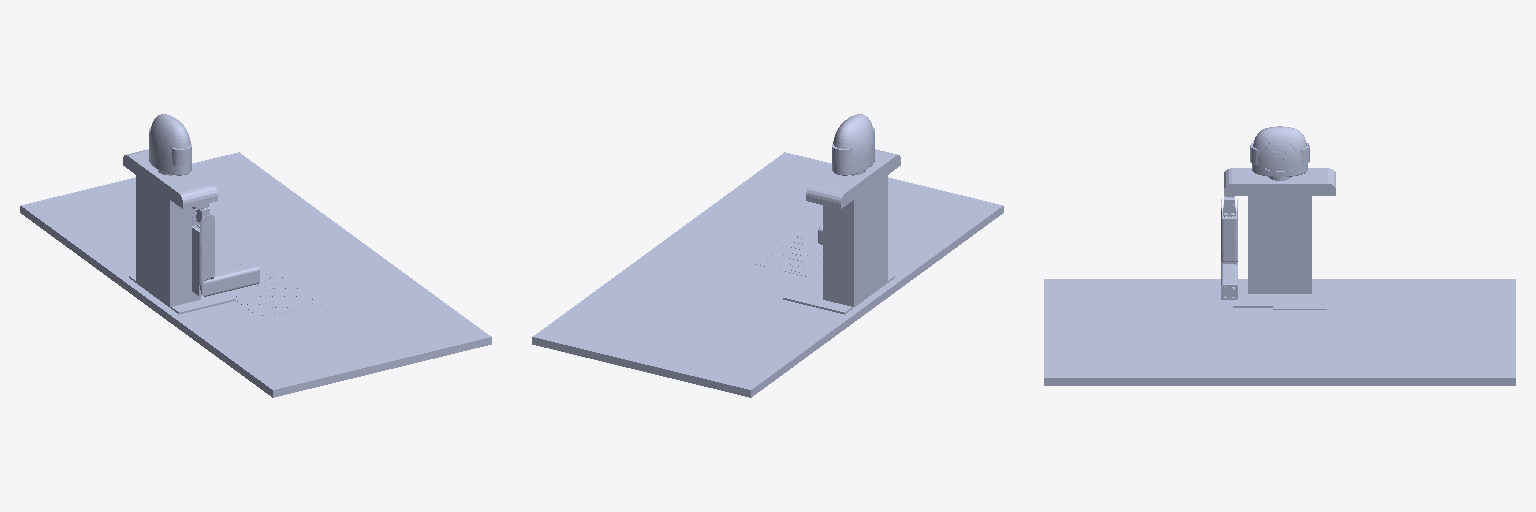
The robot description file, URDF, robot "bexter_urdf_final_combined":
<?xml version="1.0" encoding="utf-8"?>
<!-- This URDF was automatically created by SolidWorks to URDF Exporter! Originally created by [author] ([email redacted]) 
     Commit Version: 1.6.0-4-g7f85cfe  Build Version: 1.6.7995.38578
     For more information, please see http://wiki.ros.org/sw_urdf_exporter -->
<robot
  name="bexter_urdf_final_combined">
  <link
    name="base_link">
    <inertial>
      <origin
        xyz="0.2616 -0.00030313 0.036246"
        rpy="0 0 0" />
      <mass
        value="34.554" />
      <inertia
        ixx="5.7729"
        ixy="-0.00016645"
        ixz="-0.00062495"
        iyy="1.467"
        iyz="-0.00017016"
        izz="7.1736" />
    </inertial>
    <visual>
      <origin
        xyz="0 0 0"
        rpy="0 0 0" />
      <geometry>
        <mesh
          filename="package://bexter_urdf_final_combined/meshes/base_link.STL" />
      </geometry>
      <material
        name="">
        <color
          rgba="0.79216 0.81961 0.93333 1" />
      </material>
    </visual>
    <collision>
      <origin
        xyz="0 0 0"
        rpy="0 0 0" />
      <geometry>
        <mesh
          filename="package://bexter_urdf_final_combined/meshes/base_link.STL" />
      </geometry>
    </collision>
  </link>
  <link
    name="link_0">
    <inertial>
      <origin
        xyz="-1.0459E-05 -0.00048941 -0.02575"
        rpy="0 0 0" />
      <mass
        value="0.045956" />
      <inertia
        ixx="1.1423E-05"
        ixy="5.2331E-09"
        ixz="4.4082E-09"
        iyy="1.0126E-05"
        iyz="-2.555E-07"
        izz="6.9187E-06" />
    </inertial>
    <visual>
      <origin
        xyz="0 0 0"
        rpy="0 0 0" />
      <geometry>
        <mesh
          filename="package://bexter_urdf_final_combined/meshes/link_0.STL" />
      </geometry>
      <material
        name="">
        <color
          rgba="0.79216 0.81961 0.93333 1" />
      </material>
    </visual>
    <collision>
      <origin
        xyz="0 0 0"
        rpy="0 0 0" />
      <geometry>
        <mesh
          filename="package://bexter_urdf_final_combined/meshes/link_0.STL" />
      </geometry>
    </collision>
  </link>
  <joint
    name="joint_1"
    type="continuous">
    <origin
      xyz="0.026793 -0.1635 0.33675"
      rpy="0 0 0" />
    <parent
      link="base_link" />
    <child
      link="link_0" />
    <axis
      xyz="0 0 1" />
    <limit
      lower="-1.57"
      upper="1.57"
      effort="1.4"
      velocity="3.14" />
  </joint>
  <link
    name="link_1">
    <inertial>
      <origin
        xyz="-0.00089873 1.0165E-05 -0.12022"
        rpy="0 0 0" />
      <mass
        value="0.27455" />
      <inertia
        ixx="0.00062259"
        ixy="4.4646E-09"
        ixz="-2.7251E-05"
        iyy="0.00066973"
        iyz="2.5518E-07"
        izz="9.9719E-05" />
    </inertial>
    <visual>
      <origin
        xyz="0 0 0"
        rpy="0 0 0" />
      <geometry>
        <mesh
          filename="package://bexter_urdf_final_combined/meshes/link_1.STL" />
      </geometry>
      <material
        name="">
        <color
          rgba="0.79216 0.81961 0.93333 1" />
      </material>
    </visual>
    <collision>
      <origin
        xyz="0 0 0"
        rpy="0 0 0" />
      <geometry>
        <mesh
          filename="package://bexter_urdf_final_combined/meshes/link_1.STL" />
      </geometry>
    </collision>
  </link>
  <joint
    name="joint_2"
    type="revolute">
    <origin
      xyz="0 0 -0.0386"
      rpy="0 0 0" />
    <parent
      link="link_0" />
    <child
      link="link_1" />
    <axis
      xyz="0 1 0" />
    <limit
      lower="0"
      upper="0"
      effort="1.4"
      velocity="3.14" />
  </joint>
  <link
    name="link_2">
    <inertial>
      <origin
        xyz="0.096414 -8.3957E-07 -3.058E-05"
        rpy="0 0 0" />
      <mass
        value="0.2174" />
      <inertia
        ixx="8.5594E-05"
        ixy="1.3129E-14"
        ixz="5.2867E-14"
        iyy="0.00051595"
        iyz="-6.2811E-10"
        izz="0.00047252" />
    </inertial>
    <visual>
      <origin
        xyz="0 0 0"
        rpy="0 0 0" />
      <geometry>
        <mesh
          filename="package://bexter_urdf_final_combined/meshes/link_2.STL" />
      </geometry>
      <material
        name="">
        <color
          rgba="0.79216 0.81961 0.93333 1" />
      </material>
    </visual>
    <collision>
      <origin
        xyz="0 0 0"
        rpy="0 0 0" />
      <geometry>
        <mesh
          filename="package://bexter_urdf_final_combined/meshes/link_2.STL" />
      </geometry>
    </collision>
  </link>
  <joint
    name="joint_3"
    type="revolute">
    <origin
      xyz="0 -6.2E-05 -0.2209"
      rpy="0 0 0" />
    <parent
      link="link_1" />
    <child
      link="link_2" />
    <axis
      xyz="0 -1 0" />
    <limit
      lower="-3.14"
      upper="1.57"
      effort="1.4"
      velocity="3.14" />
  </joint>
  <link
    name="end_effector">
    <inertial>
      <origin
        xyz="-0.02175 0.13529 0.035046"
        rpy="0 0 0" />
      <mass
        value="0.2174" />
      <inertia
        ixx="3.4269"
        ixy="-0.01472"
        ixz="0.36166"
        iyy="1.5996"
        iyz="0.008637"
        izz="3.8564" />
    </inertial>
    <visual>
      <origin
        xyz="0 0 0"
        rpy="0 0 0" />
      <geometry>
        <mesh
          filename="package://bexter_urdf_final_combined/meshes/end_effector.STL" />
      </geometry>
      <material
        name="">
        <color
          rgba="1 1 1 1" />
      </material>
    </visual>
    <collision>
      <origin
        xyz="0 0 0"
        rpy="0 0 0" />
      <geometry>
        <mesh
          filename="package://bexter_urdf_final_combined/meshes/end_effector.STL" />
      </geometry>
    </collision>
  </link>
  <joint
    name="joint_end_effecot"
    type="fixed">
    <origin
      xyz="0.22568 0.022495 -0.04826"
      rpy="0 0 0" />
    <parent
      link="link_2" />
    <child
      link="end_effector" />
    <axis
      xyz="0 0 0" />
  </joint>
</robot>

--- Facts derived from the render (not from the file) ---
Views: 3 orthographic renders of the robot side by side, from view 1: azimuth 30°, elevation 25°; view 2: azimuth 150°, elevation 25°; view 3: azimuth 270°, elevation 25°.
Robot: bexter_urdf_final_combined — 5 links, 4 joints (2 revolute, 1 continuous, 1 fixed); root link base_link; default pose: all joints at 0.
Visible links, largest first — view 1: base_link, link_1, link_2; view 2: base_link; view 3: base_link, link_1, link_2.
Link boxes in pixels (x1,y1,x2,y2): base_link: (20, 114, 491, 397); link_1: (192, 210, 214, 295); link_2: (201, 262, 259, 296); base_link: (532, 114, 1003, 397); base_link: (1044, 126, 1515, 385); link_1: (1221, 199, 1237, 264); link_2: (1221, 262, 1237, 299).
Size in the robot's own frame: 0.762 by 1.52 by 0.6048 metres.
4 mesh visuals loaded from 5 distinct referenced files (4 binary STL); not drawn: 1 (file found but could not be loaded).
